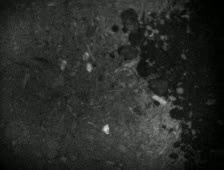corn: (58, 57, 70, 74), (99, 121, 111, 137), (84, 59, 95, 74), (79, 50, 91, 62)
